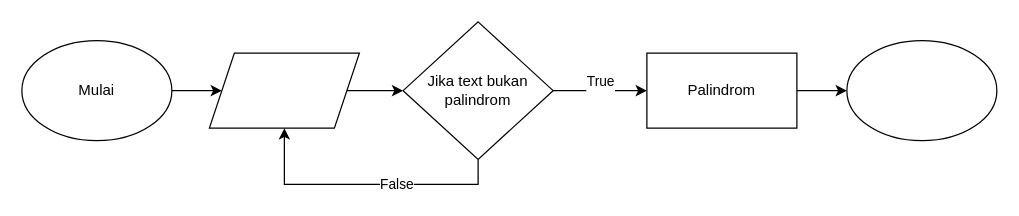
The diagram is 1019 pixels wide and 216 high, and some of its shapes have lost their labels. The centre of each missing label's shape, as x and y in pixels:
"Input text" belongs at pixel 283 90.
"Selesai" belongs at pixel 921 90.
